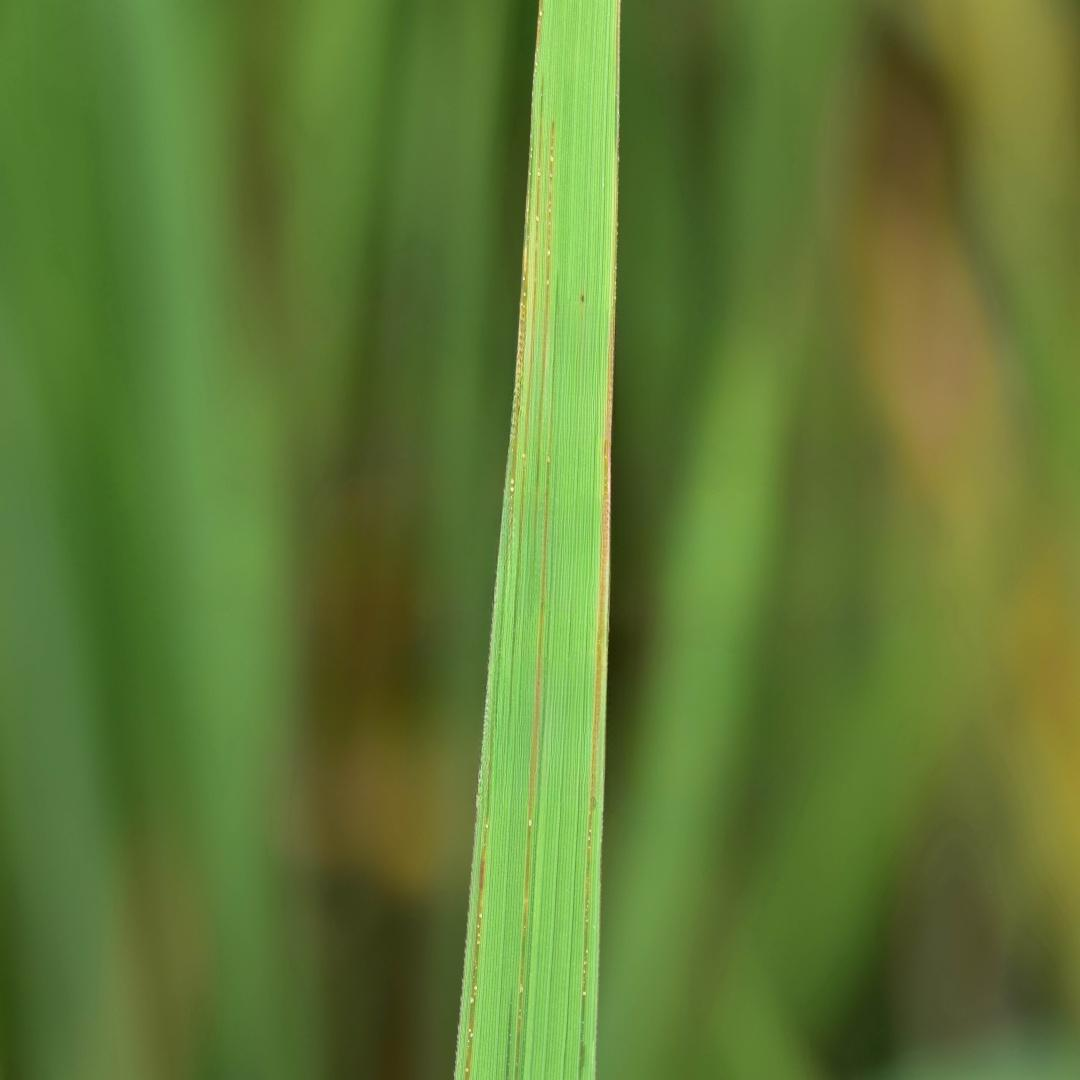BLS: (579, 254, 617, 1079), (516, 459, 551, 1079), (515, 77, 543, 578), (532, 122, 555, 572), (510, 209, 531, 526), (465, 810, 488, 1079)
